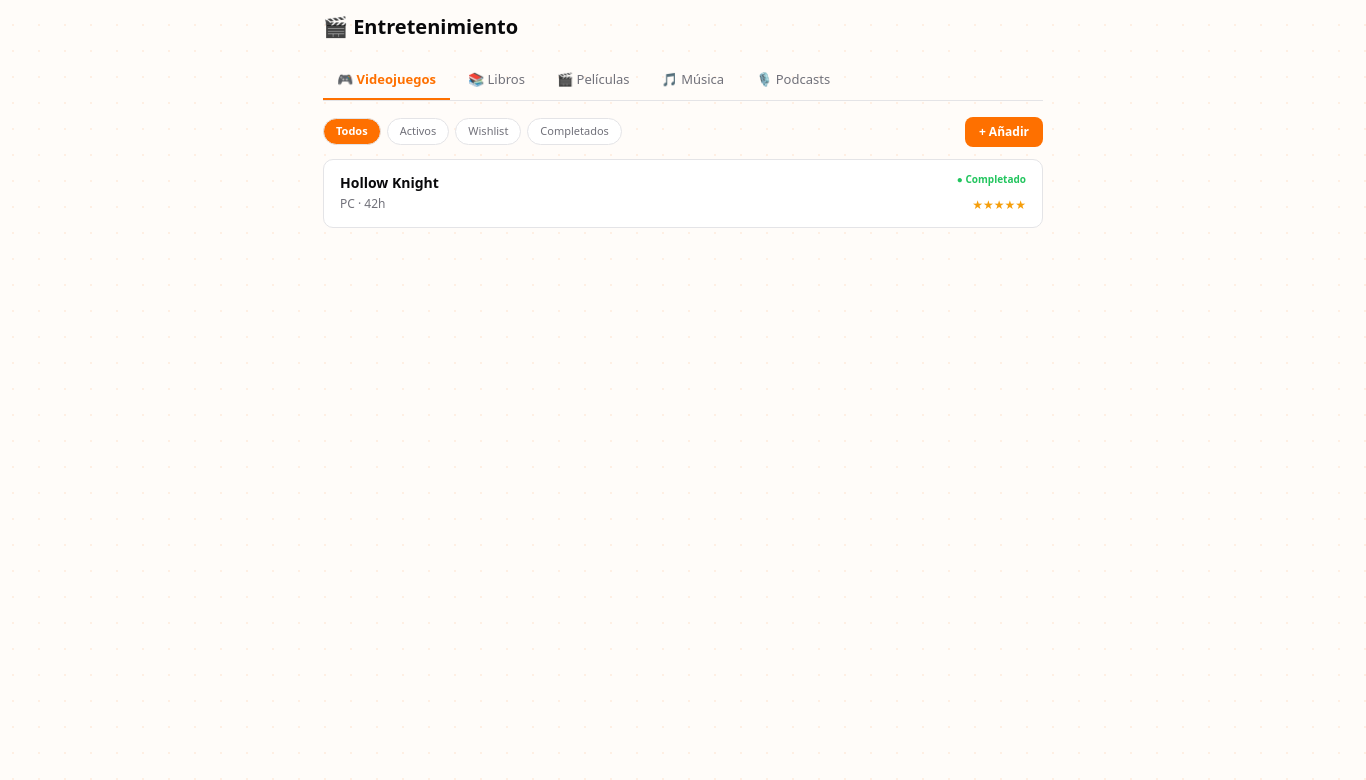
Entretenimiento › switches to Libros tab
Click the button "📚 Libros" at (496, 81), box [454,62,539,100]
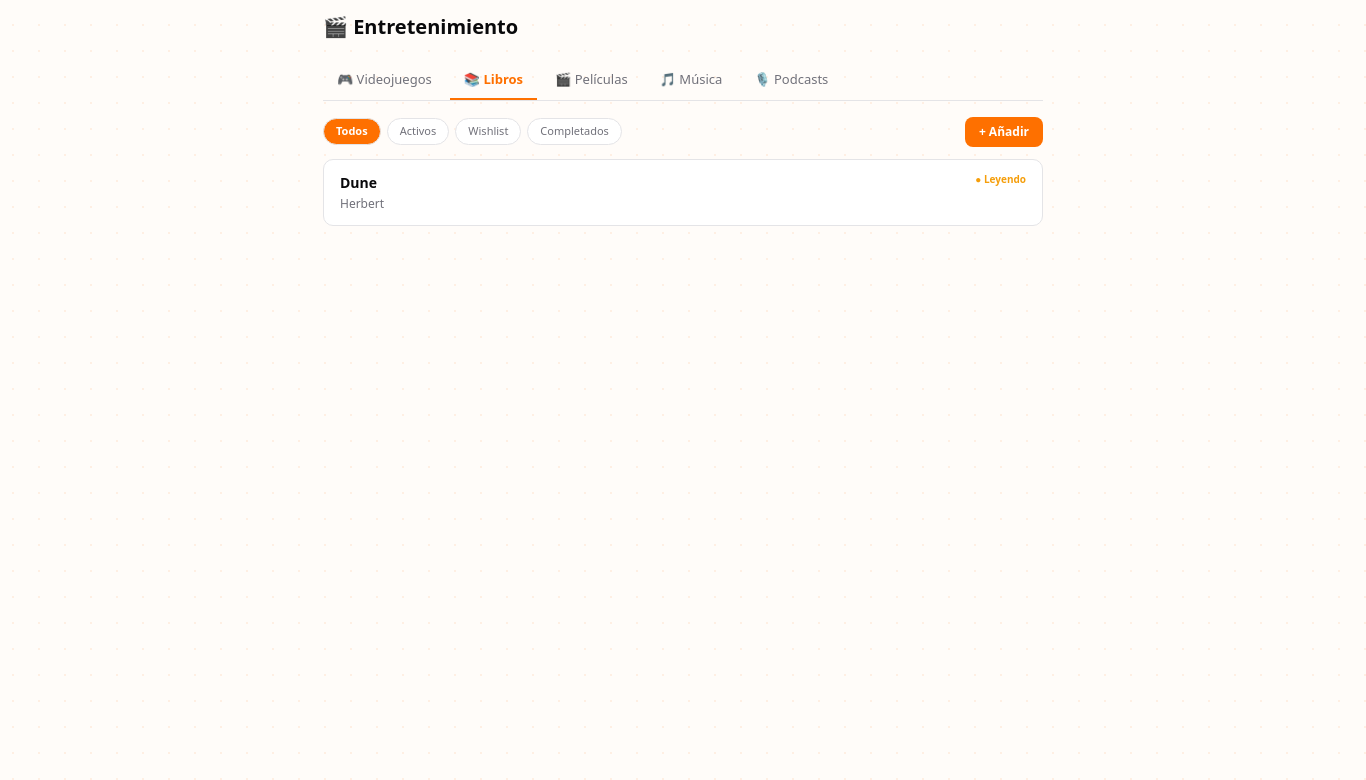
Check: the text "Dune" is shown, box [340,172,377,192]
